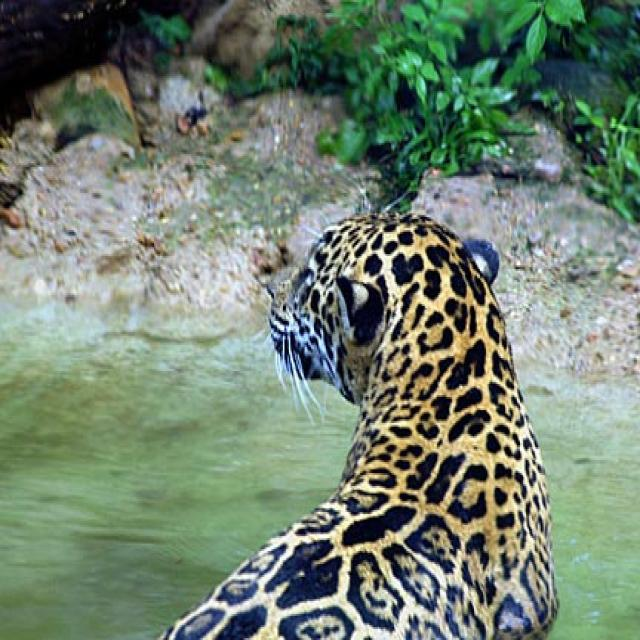Leopard: (151, 206, 560, 636)
